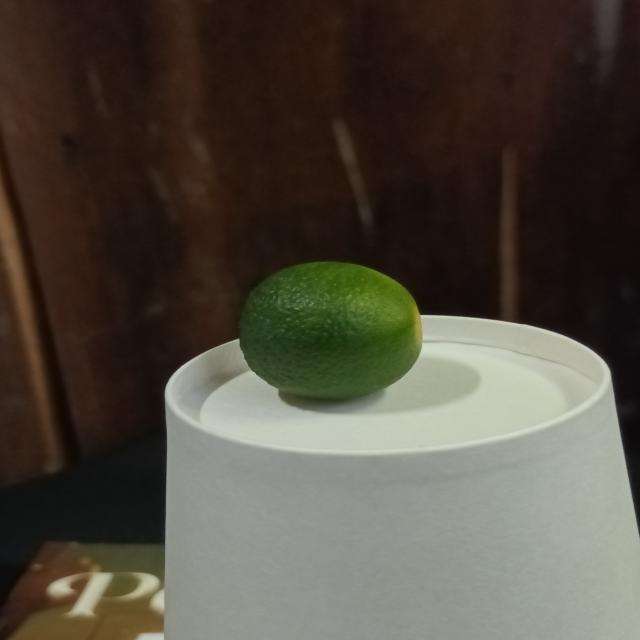heathy: (233, 254, 433, 396)
